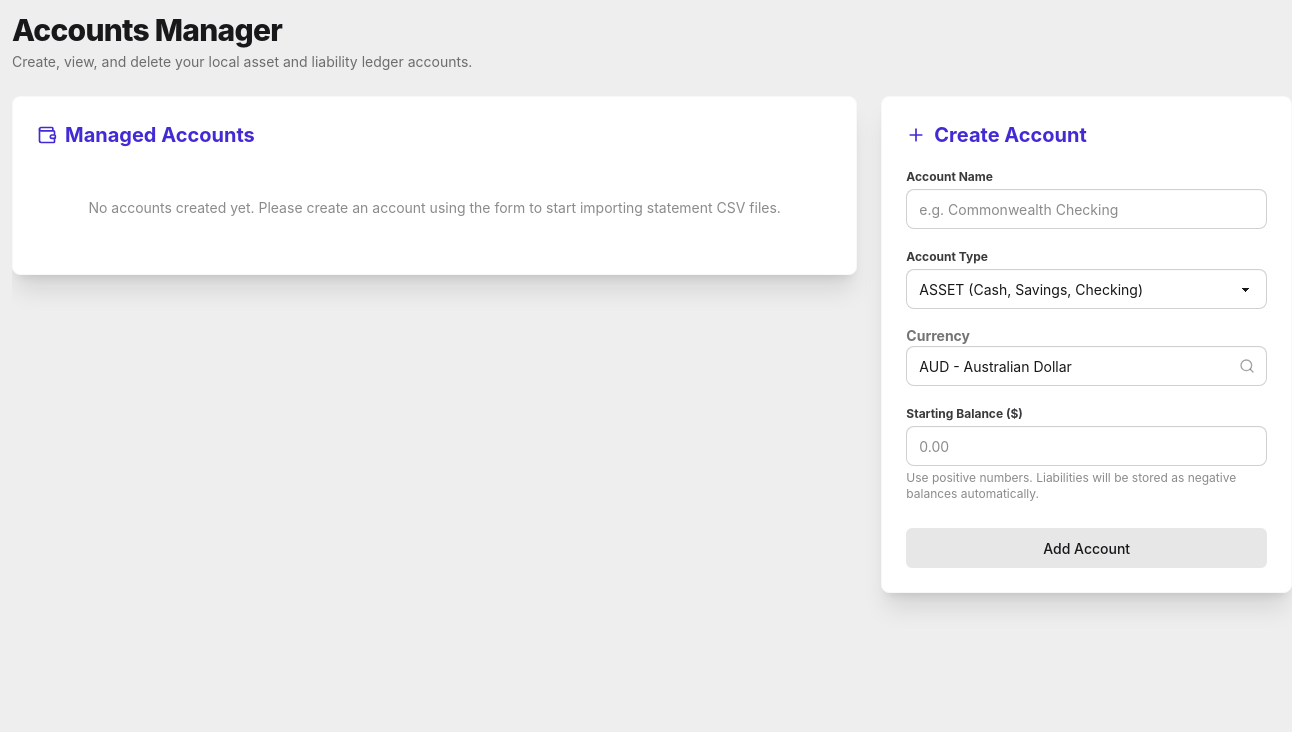
Test: AccountsClient — creating an account › shows error toast when createAccount fails
This screenshot has width=1292, height=732.
Type "Test" into the field with placeholder "e.g. Commonwealth Checking" at (1087, 209), box [906, 189, 1267, 229]
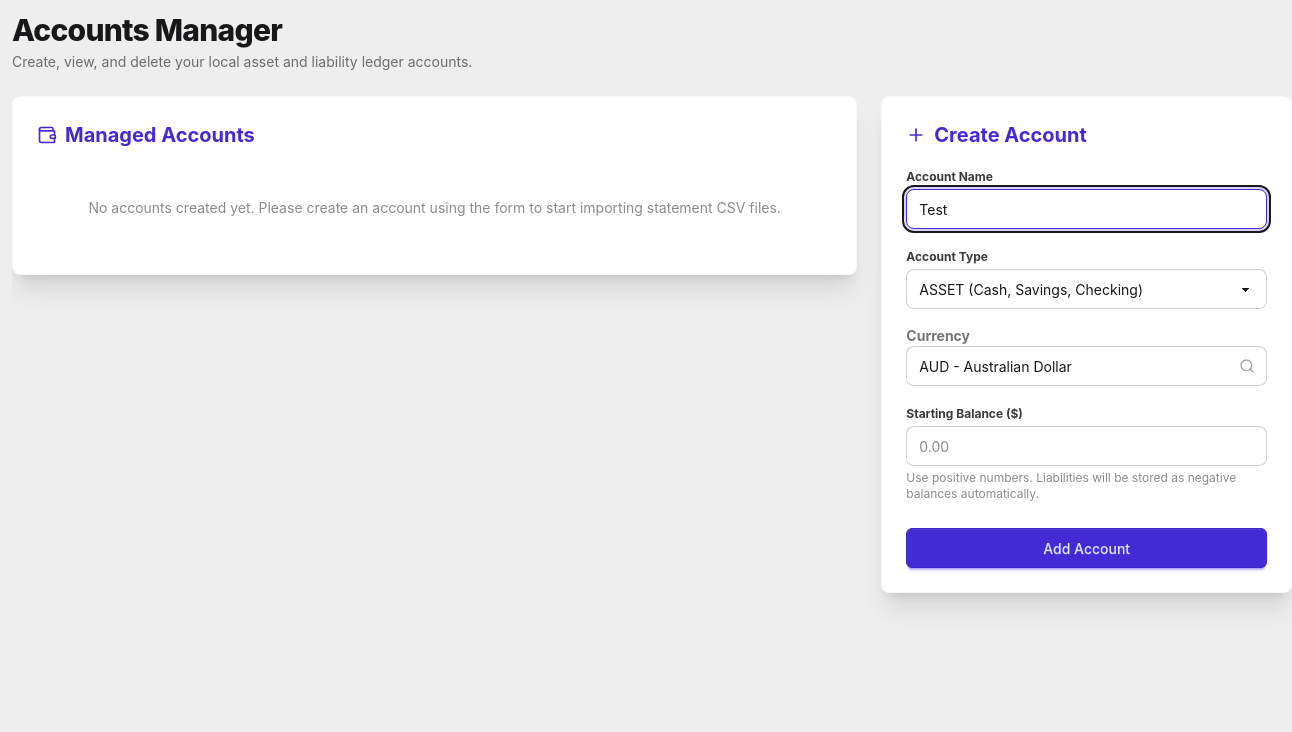
Click the button "Add Account" at (1087, 548), box [906, 528, 1267, 568]
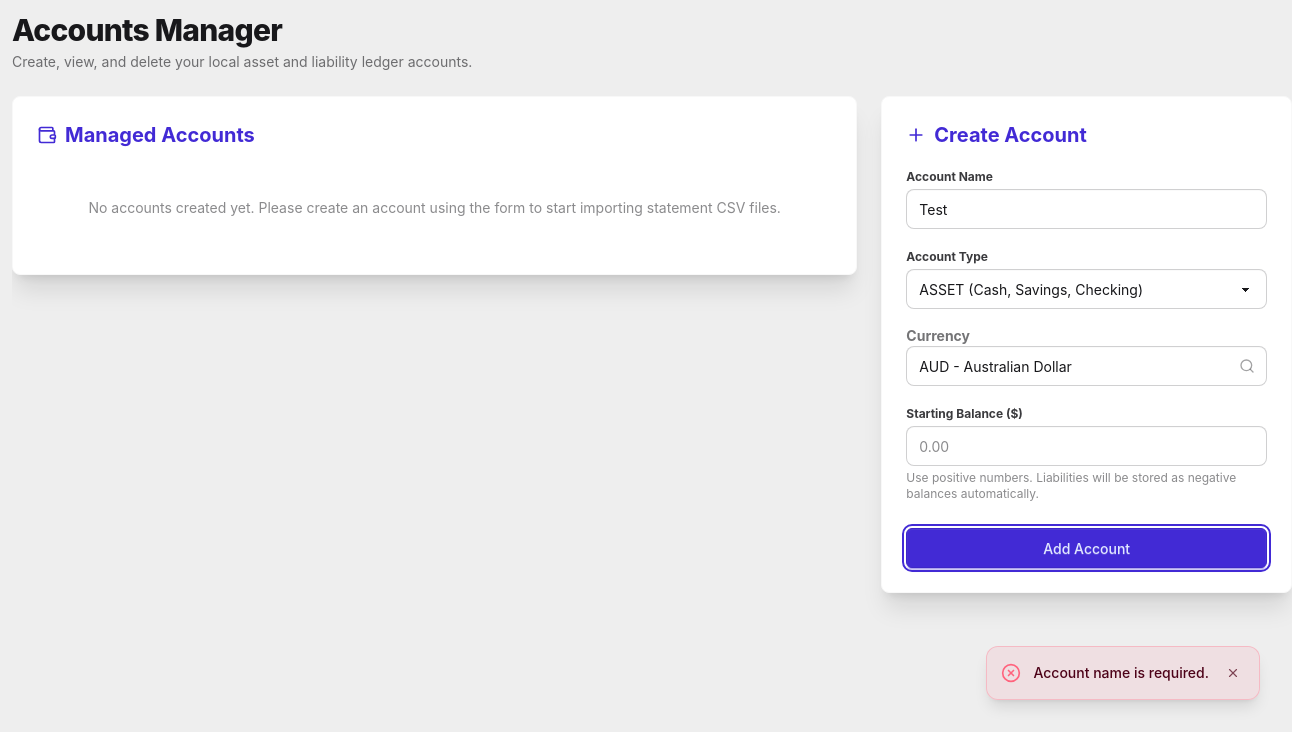
Check: the text "Account name is required." is shown, box [1033, 663, 1209, 683]
